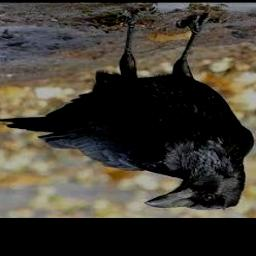Crow: (0, 8, 254, 211)
